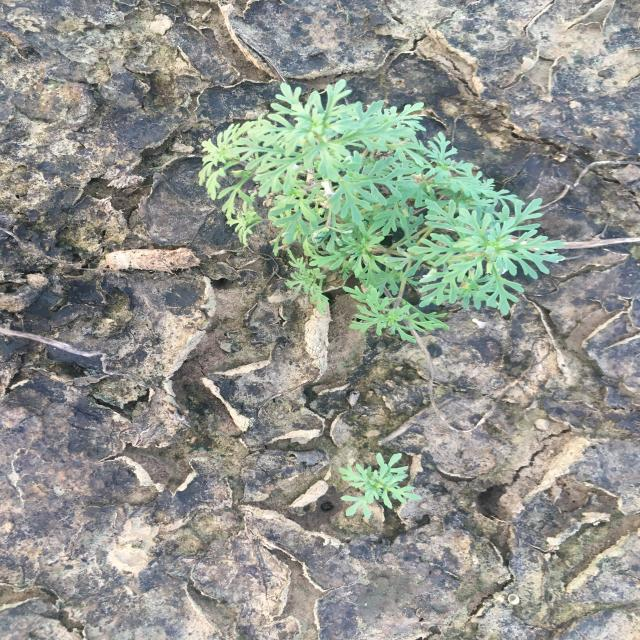Ragweed: (195, 77, 567, 343), (337, 451, 425, 521)
